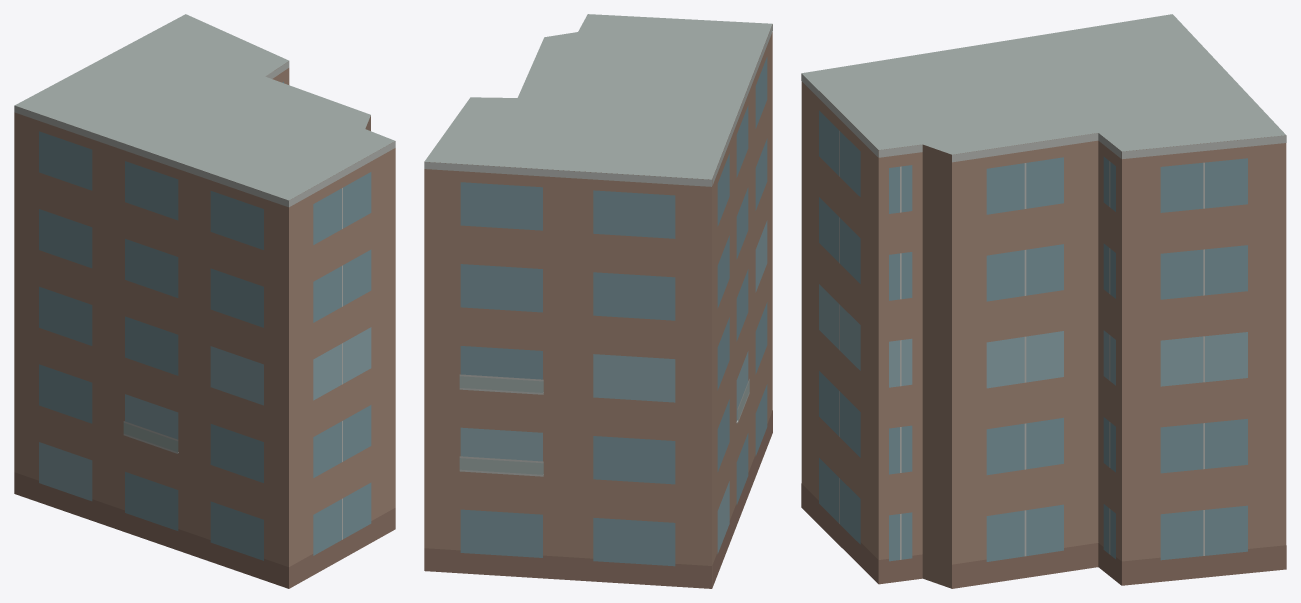
Rendered from survey-upis-32577782.glb.
3 renders of one model, left to right at view 1: azimuth 30°, elevation 25°; view 2: azimuth 150°, elevation 25°; view 3: azimuth 270°, elevation 25°, orthographic. The views are drawn at different scales.
Parts seen in each view (by area): view 1: survey-upis-32577782.tmp; view 2: survey-upis-32577782.tmp; view 3: survey-upis-32577782.tmp.
Boxes of the visible parts, <box> form: survey-upis-32577782.tmp: <box>14,14,395,588</box>; survey-upis-32577782.tmp: <box>424,14,772,588</box>; survey-upis-32577782.tmp: <box>801,14,1286,588</box>.
Bounding box in the file's own units: 9.57 × 13.75 × 13.93.
